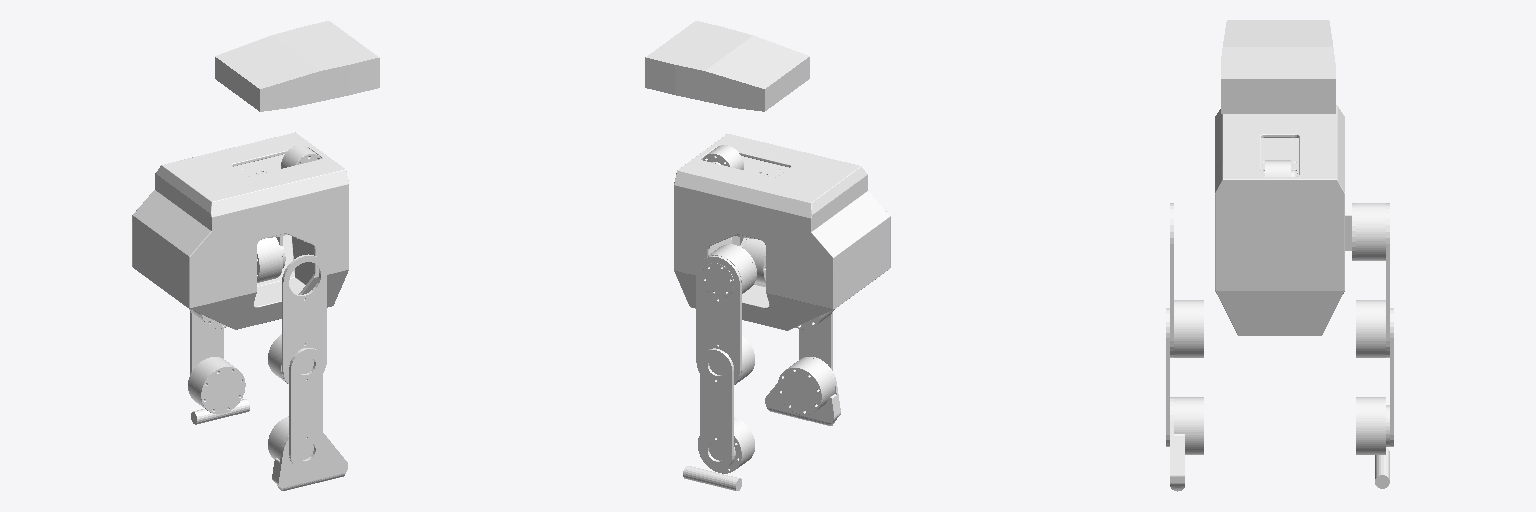
URDF robot description (DuckDuck):
<?xml version="1.0" encoding="utf-8"?>
<!-- This URDF was automatically created by SolidWorks to URDF Exporter! Originally created by [author] ([email redacted]) 
     Commit Version: 1.6.0-4-g7f85cfe  Build Version: 1.6.7995.38578
     For more information, please see http://wiki.ros.org/sw_urdf_exporter -->
<robot
  name="DuckDuck">
  <link
    name="base">
    <inertial>
      <origin
        xyz="-0.0100928530626795 -8.48766786223073E-05 0.0417109438407734"
        rpy="0 0 0" />
      <mass
        value="1.70037419863104" />
      <inertia
        ixx="0.011026305690898"
        ixy="1.15603196804474E-08"
        ixz="0.000185395732857203"
        iyy="0.0172159470283866"
        iyz="-8.11570230276946E-09"
        izz="0.0151809445338661" />
    </inertial>
    <visual>
      <origin
        xyz="0 0 0"
        rpy="0 0 0" />
      <geometry>
        <mesh
          filename="package://DuckDuck/meshes/base.STL" />
      </geometry>
      <material
        name="">
        <color
          rgba="1 1 1 1" />
      </material>
    </visual>
    <collision>
      <origin
        xyz="0 0 0"
        rpy="0 0 0" />
      <geometry>
        <mesh
          filename="package://DuckDuck/meshes/base.STL" />
      </geometry>
    </collision>
  </link>
  <link
    name="left_hip_yaw">
    <inertial>
      <origin
        xyz="-0.0148415027804522 -1.42278207789504E-05 0.00518098759586325"
        rpy="0 0 0" />
      <mass
        value="0.22770651071542" />
      <inertia
        ixx="0.00016064594987398"
        ixy="-1.0584438013289E-08"
        ixz="2.79494697437766E-06"
        iyy="0.000122883197379238"
        iyz="5.01180502056784E-08"
        izz="0.000114845036646105" />
    </inertial>
    <visual>
      <origin
        xyz="0 0 0"
        rpy="0 0 0" />
      <geometry>
        <mesh
          filename="package://DuckDuck/meshes/left_hip_yaw.STL" />
      </geometry>
      <material
        name="">
        <color
          rgba="1 1 1 1" />
      </material>
    </visual>
    <collision>
      <origin
        xyz="0 0 0"
        rpy="0 0 0" />
      <geometry>
        <mesh
          filename="package://DuckDuck/meshes/left_hip_yaw.STL" />
      </geometry>
    </collision>
  </link>
  <joint
    name="left_hip_yaw_joint"
    type="revolute">
    <origin
      xyz="0 0.04 0"
      rpy="0 0 0" />
    <parent
      link="base" />
    <child
      link="left_hip_yaw" />
    <axis
      xyz="0 0 1" />
    <limit
      lower="0"
      upper="0"
      effort="0"
      velocity="0" />
  </joint>
  <link
    name="left_hip_roll">
    <inertial>
      <origin
        xyz="0.00016868655630813 0.0732538542750924 -1.42428991139337E-05"
        rpy="0 0 0" />
      <mass
        value="0.22746544778837" />
      <inertia
        ixx="0.000139061664775468"
        ixy="9.72203682012463E-07"
        ixz="-3.27718468280282E-09"
        iyy="0.000154215112847962"
        iyz="5.57863354309902E-08"
        izz="0.000132221036670331" />
    </inertial>
    <visual>
      <origin
        xyz="0 0 0"
        rpy="0 0 0" />
      <geometry>
        <mesh
          filename="package://DuckDuck/meshes/left_hip_roll.STL" />
      </geometry>
      <material
        name="">
        <color
          rgba="1 1 1 1" />
      </material>
    </visual>
    <collision>
      <origin
        xyz="0 0 0"
        rpy="0 0 0" />
      <geometry>
        <mesh
          filename="package://DuckDuck/meshes/left_hip_roll.STL" />
      </geometry>
    </collision>
  </link>
  <joint
    name="left_hip_roll_joint"
    type="revolute">
    <origin
      xyz="0 0 0"
      rpy="0 0 0" />
    <parent
      link="left_hip_yaw" />
    <child
      link="left_hip_roll" />
    <axis
      xyz="1 0 0" />
    <limit
      lower="0"
      upper="0"
      effort="0"
      velocity="0" />
  </joint>
  <link
    name="left_hip_pitch">
    <inertial>
      <origin
        xyz="-3.35688425254106E-16 0.0845594117245176 -0.125225619873394"
        rpy="0 0 0" />
      <mass
        value="0.24023854356995" />
      <inertia
        ixx="0.000225138484662056"
        ixy="-6.01790208528758E-22"
        ixz="-1.33196195508682E-19"
        iyy="0.000288595828376715"
        iyz="3.54863128273055E-20"
        izz="0.000123129101652142" />
    </inertial>
    <visual>
      <origin
        xyz="0 0 0"
        rpy="0 0 0" />
      <geometry>
        <mesh
          filename="package://DuckDuck/meshes/left_hip_pitch.STL" />
      </geometry>
      <material
        name="">
        <color
          rgba="1 1 1 1" />
      </material>
    </visual>
    <collision>
      <origin
        xyz="0 0 0"
        rpy="0 0 0" />
      <geometry>
        <mesh
          filename="package://DuckDuck/meshes/left_hip_pitch.STL" />
      </geometry>
    </collision>
  </link>
  <joint
    name="left_hip_pitch_joint"
    type="revolute">
    <origin
      xyz="0 0 0"
      rpy="0 0 0" />
    <parent
      link="left_hip_roll" />
    <child
      link="left_hip_pitch" />
    <axis
      xyz="0 1 0" />
    <limit
      lower="0"
      upper="0"
      effort="0"
      velocity="0" />
  </joint>
  <link
    name="left_knee_pitch">
    <inertial>
      <origin
        xyz="-3.14931093635428E-16 -0.00857325265941741 -0.127010278601144"
        rpy="0 0 0" />
      <mass
        value="0.232718078417979" />
      <inertia
        ixx="0.000202660360914128"
        ixy="5.18171181382048E-21"
        ixz="-1.27035811917264E-19"
        iyy="0.000249803523853592"
        iyz="4.20827856752809E-20"
        izz="0.000106783585605482" />
    </inertial>
    <visual>
      <origin
        xyz="0 0 0"
        rpy="0 0 0" />
      <geometry>
        <mesh
          filename="package://DuckDuck/meshes/left_knee_pitch.STL" />
      </geometry>
      <material
        name="">
        <color
          rgba="1 1 1 1" />
      </material>
    </visual>
    <collision>
      <origin
        xyz="0 0 0"
        rpy="0 0 0" />
      <geometry>
        <mesh
          filename="package://DuckDuck/meshes/left_knee_pitch.STL" />
      </geometry>
    </collision>
  </link>
  <joint
    name="left_knee_pitch_joint"
    type="revolute">
    <origin
      xyz="0 0.0936181760425075 -0.14"
      rpy="0 0 0" />
    <parent
      link="left_hip_pitch" />
    <child
      link="left_knee_pitch" />
    <axis
      xyz="0 1 0" />
    <limit
      lower="0"
      upper="0"
      effort="0"
      velocity="0" />
  </joint>
  <link
    name="left_ankle_pitch">
    <inertial>
      <origin
        xyz="0.0171971119634686 0.00125991692727168 -0.027457582228249"
        rpy="0 0 0" />
      <mass
        value="0.0651489641090865" />
      <inertia
        ixx="2.71170426483944E-05"
        ixy="1.41229735589195E-06"
        ixz="1.45343243518079E-06"
        iyy="0.000111640995669254"
        iyz="-2.23259273055197E-06"
        izz="8.94054733742727E-05" />
    </inertial>
    <visual>
      <origin
        xyz="0 0 0"
        rpy="0 0 0" />
      <geometry>
        <mesh
          filename="package://DuckDuck/meshes/left_ankle_pitch.STL" />
      </geometry>
      <material
        name="">
        <color
          rgba="1 1 1 1" />
      </material>
    </visual>
    <collision>
      <origin
        xyz="0 0 0"
        rpy="0 0 0" />
      <geometry>
        <mesh
          filename="package://DuckDuck/meshes/left_ankle_pitch.STL" />
      </geometry>
    </collision>
  </link>
  <joint
    name="left_ankle_pitch_joint"
    type="revolute">
    <origin
      xyz="0 0 -0.14"
      rpy="0 0 0" />
    <parent
      link="left_knee_pitch" />
    <child
      link="left_ankle_pitch" />
    <axis
      xyz="0 1 0" />
    <limit
      lower="0"
      upper="0"
      effort="0"
      velocity="0" />
  </joint>
  <link
    name="left_ankle_roll">
    <inertial>
      <origin
        xyz="0.0149999999999993 -2.77555756156289E-17 -4.94049245958195E-15"
        rpy="0 0 0" />
      <mass
        value="0.0282743338823081" />
      <inertia
        ixx="1.41371669411541E-06"
        ixy="5.1925397296605E-21"
        ixz="7.15187474625493E-22"
        iyy="1.97920337176157E-05"
        iyz="-6.61744490042407E-23"
        izz="1.97920337176157E-05" />
    </inertial>
    <visual>
      <origin
        xyz="0 0 0"
        rpy="0 0 0" />
      <geometry>
        <mesh
          filename="package://DuckDuck/meshes/left_ankle_roll.STL" />
      </geometry>
      <material
        name="">
        <color
          rgba="1 1 1 1" />
      </material>
    </visual>
    <collision>
      <origin
        xyz="0 0 0"
        rpy="0 0 0" />
      <geometry>
        <mesh
          filename="package://DuckDuck/meshes/left_ankle_roll.STL" />
      </geometry>
    </collision>
  </link>
  <joint
    name="left_ankle_roll_joint"
    type="revolute">
    <origin
      xyz="0 0 -0.0523924267994756"
      rpy="0 0 0" />
    <parent
      link="left_ankle_pitch" />
    <child
      link="left_ankle_roll" />
    <axis
      xyz="1 0 0" />
    <limit
      lower="0"
      upper="0"
      effort="0"
      velocity="0" />
  </joint>
  <link
    name="right_hip_yaw">
    <inertial>
      <origin
        xyz="-0.0148415027804522 -1.4227820776147E-05 0.00518098759586436"
        rpy="0 0 0" />
      <mass
        value="0.22770651071542" />
      <inertia
        ixx="0.00016064594987398"
        ixy="-1.05844380133239E-08"
        ixz="2.7949469743776E-06"
        iyy="0.000122883197379238"
        iyz="5.01180502056588E-08"
        izz="0.000114845036646105" />
    </inertial>
    <visual>
      <origin
        xyz="0 0 0"
        rpy="0 0 0" />
      <geometry>
        <mesh
          filename="package://DuckDuck/meshes/right_hip_yaw.STL" />
      </geometry>
      <material
        name="">
        <color
          rgba="1 1 1 1" />
      </material>
    </visual>
    <collision>
      <origin
        xyz="0 0 0"
        rpy="0 0 0" />
      <geometry>
        <mesh
          filename="package://DuckDuck/meshes/right_hip_yaw.STL" />
      </geometry>
    </collision>
  </link>
  <joint
    name="right_hip_yaw_joint"
    type="revolute">
    <origin
      xyz="0 -0.04 0"
      rpy="0 0 0" />
    <parent
      link="base" />
    <child
      link="right_hip_yaw" />
    <axis
      xyz="0 0 1" />
    <limit
      lower="0"
      upper="0"
      effort="0"
      velocity="0" />
  </joint>
  <link
    name="right_hip_roll">
    <inertial>
      <origin
        xyz="0.000168686556307084 -0.073253854275096 1.42428991107002E-05"
        rpy="0 0 0" />
      <mass
        value="0.22746544778837" />
      <inertia
        ixx="0.000139061664775468"
        ixy="-9.72203682012507E-07"
        ixz="3.27718468277951E-09"
        iyy="0.000154215112847962"
        iyz="5.57863354310647E-08"
        izz="0.000132221036670331" />
    </inertial>
    <visual>
      <origin
        xyz="0 0 0"
        rpy="0 0 0" />
      <geometry>
        <mesh
          filename="package://DuckDuck/meshes/right_hip_roll.STL" />
      </geometry>
      <material
        name="">
        <color
          rgba="1 1 1 1" />
      </material>
    </visual>
    <collision>
      <origin
        xyz="0 0 0"
        rpy="0 0 0" />
      <geometry>
        <mesh
          filename="package://DuckDuck/meshes/right_hip_roll.STL" />
      </geometry>
    </collision>
  </link>
  <joint
    name="right_hip_roll_joint"
    type="revolute">
    <origin
      xyz="0 0 0"
      rpy="0 0 0" />
    <parent
      link="right_hip_yaw" />
    <child
      link="right_hip_roll" />
    <axis
      xyz="1 0 0" />
    <limit
      lower="0"
      upper="0"
      effort="0"
      velocity="0" />
  </joint>
  <link
    name="right_hip_pitch">
    <inertial>
      <origin
        xyz="9.8250059966117E-17 -0.0845594117245176 -0.125225619873394"
        rpy="0 0 0" />
      <mass
        value="0.24023854356995" />
      <inertia
        ixx="0.000225138484662056"
        ixy="-5.10457369633909E-20"
        ixz="-1.64038087116657E-19"
        iyy="0.000288595828376715"
        iyz="-2.38742900383508E-20"
        izz="0.000123129101652142" />
    </inertial>
    <visual>
      <origin
        xyz="0 0 0"
        rpy="0 0 0" />
      <geometry>
        <mesh
          filename="package://DuckDuck/meshes/right_hip_pitch.STL" />
      </geometry>
      <material
        name="">
        <color
          rgba="1 1 1 1" />
      </material>
    </visual>
    <collision>
      <origin
        xyz="0 0 0"
        rpy="0 0 0" />
      <geometry>
        <mesh
          filename="package://DuckDuck/meshes/right_hip_pitch.STL" />
      </geometry>
    </collision>
  </link>
  <joint
    name="right_hip_pitch_joint"
    type="revolute">
    <origin
      xyz="0 0 0"
      rpy="0 0 0" />
    <parent
      link="right_hip_roll" />
    <child
      link="right_hip_pitch" />
    <axis
      xyz="0 -1 0" />
    <limit
      lower="0"
      upper="0"
      effort="0"
      velocity="0" />
  </joint>
  <link
    name="right_knee_pitch">
    <inertial>
      <origin
        xyz="-1.85705319768296E-16 0.00857325265941841 -0.127010278601144"
        rpy="0 0 0" />
      <mass
        value="0.232718078417978" />
      <inertia
        ixx="0.000202660360914127"
        ixy="-3.42581386582497E-20"
        ixz="-1.55170653183977E-19"
        iyy="0.000249803523853592"
        iyz="2.64883998539048E-20"
        izz="0.000106783585605481" />
    </inertial>
    <visual>
      <origin
        xyz="0 0 0"
        rpy="0 0 0" />
      <geometry>
        <mesh
          filename="package://DuckDuck/meshes/right_knee_pitch.STL" />
      </geometry>
      <material
        name="">
        <color
          rgba="1 1 1 1" />
      </material>
    </visual>
    <collision>
      <origin
        xyz="0 0 0"
        rpy="0 0 0" />
      <geometry>
        <mesh
          filename="package://DuckDuck/meshes/right_knee_pitch.STL" />
      </geometry>
    </collision>
  </link>
  <joint
    name="right_knee_pitch_joint"
    type="revolute">
    <origin
      xyz="0 -0.0936181760425084 -0.14"
      rpy="0 0 0" />
    <parent
      link="right_hip_pitch" />
    <child
      link="right_knee_pitch" />
    <axis
      xyz="0 -1 0" />
    <limit
      lower="0"
      upper="0"
      effort="0"
      velocity="0" />
  </joint>
  <link
    name="right_ankle_pitch">
    <inertial>
      <origin
        xyz="0.0171970814557113 -0.00125992066950759 -0.0274576170413897"
        rpy="0 0 0" />
      <mass
        value="0.0651490178313245" />
      <inertia
        ixx="2.71171025823446E-05"
        ixy="-1.41230393207431E-06"
        ixz="1.45333365120518E-06"
        iyy="0.000111641093323312"
        iyz="2.23257104497736E-06"
        izz="8.94055118440263E-05" />
    </inertial>
    <visual>
      <origin
        xyz="0 0 0"
        rpy="0 0 0" />
      <geometry>
        <mesh
          filename="package://DuckDuck/meshes/right_ankle_pitch.STL" />
      </geometry>
      <material
        name="">
        <color
          rgba="1 1 1 1" />
      </material>
    </visual>
    <collision>
      <origin
        xyz="0 0 0"
        rpy="0 0 0" />
      <geometry>
        <mesh
          filename="package://DuckDuck/meshes/right_ankle_pitch.STL" />
      </geometry>
    </collision>
  </link>
  <joint
    name="right_ankle_pitch_joint"
    type="revolute">
    <origin
      xyz="0 0 -0.14"
      rpy="0 0 0" />
    <parent
      link="right_knee_pitch" />
    <child
      link="right_ankle_pitch" />
    <axis
      xyz="0 -1 0" />
    <limit
      lower="0"
      upper="0"
      effort="0"
      velocity="0" />
  </joint>
  <link
    name="right_ankle_roll">
    <inertial>
      <origin
        xyz="0.0149999999999999 -1.33226762955019E-15 5.55111512312578E-16"
        rpy="0 0 0" />
      <mass
        value="0.0282743338823081" />
      <inertia
        ixx="1.41371669411541E-06"
        ixy="6.2247337944344E-22"
        ixz="8.05197805008483E-23"
        iyy="1.97920337176157E-05"
        iyz="-7.85821581925374E-24"
        izz="1.97920337176157E-05" />
    </inertial>
    <visual>
      <origin
        xyz="0 0 0"
        rpy="0 0 0" />
      <geometry>
        <mesh
          filename="package://DuckDuck/meshes/right_ankle_roll.STL" />
      </geometry>
      <material
        name="">
        <color
          rgba="1 1 1 1" />
      </material>
    </visual>
    <collision>
      <origin
        xyz="0 0 0"
        rpy="0 0 0" />
      <geometry>
        <mesh
          filename="package://DuckDuck/meshes/right_ankle_roll.STL" />
      </geometry>
    </collision>
  </link>
  <joint
    name="right_ankle_roll_joint"
    type="revolute">
    <origin
      xyz="0 0 -0.0523924267994828"
      rpy="0 0 0" />
    <parent
      link="right_ankle_pitch" />
    <child
      link="right_ankle_roll" />
    <axis
      xyz="1 0 0" />
    <limit
      lower="0"
      upper="0"
      effort="0"
      velocity="0" />
  </joint>
  <link
    name="neck_pitch">
    <inertial>
      <origin
        xyz="2.22044604925031E-16 -0.00249999999999993 0.0500927287975886"
        rpy="0 0 0" />
      <mass
        value="0.0944141515929346" />
      <inertia
        ixx="5.98227661229977E-05"
        ixy="8.62532755251327E-21"
        ixz="-3.22455725258216E-20"
        iyy="5.75228750179582E-05"
        iyz="-1.1362726639035E-20"
        izz="3.40590799851078E-05" />
    </inertial>
    <visual>
      <origin
        xyz="0 0 0"
        rpy="0 0 0" />
      <geometry>
        <mesh
          filename="package://DuckDuck/meshes/neck_pitch.STL" />
      </geometry>
      <material
        name="">
        <color
          rgba="1 1 1 1" />
      </material>
    </visual>
    <collision>
      <origin
        xyz="0 0 0"
        rpy="0 0 0" />
      <geometry>
        <mesh
          filename="package://DuckDuck/meshes/neck_pitch.STL" />
      </geometry>
    </collision>
  </link>
  <joint
    name="neck_pitch_joint"
    type="revolute">
    <origin
      xyz="0.0774999999999999 0 0.108874586088177"
      rpy="0 0 0" />
    <parent
      link="base" />
    <child
      link="neck_pitch" />
    <axis
      xyz="0 1 0" />
    <limit
      lower="0"
      upper="0"
      effort="0"
      velocity="0" />
  </joint>
  <link
    name="neck_roll">
    <inertial>
      <origin
        xyz="4.16333634234434E-17 9.97465998686664E-18 0.025398197821265"
        rpy="0 0 0" />
      <mass
        value="0.0554895568861581" />
      <inertia
        ixx="3.52155621202351E-05"
        ixy="1.77533649293486E-20"
        ixz="-3.68225674531131E-20"
        iyy="2.9525444201718E-05"
        iyz="-6.88155523420156E-21"
        izz="9.34760082952307E-06" />
    </inertial>
    <visual>
      <origin
        xyz="0 0 0"
        rpy="0 0 0" />
      <geometry>
        <mesh
          filename="package://DuckDuck/meshes/neck_roll.STL" />
      </geometry>
      <material
        name="">
        <color
          rgba="1 1 1 1" />
      </material>
    </visual>
    <collision>
      <origin
        xyz="0 0 0"
        rpy="0 0 0" />
      <geometry>
        <mesh
          filename="package://DuckDuck/meshes/neck_roll.STL" />
      </geometry>
    </collision>
  </link>
  <joint
    name="neck_roll_joint"
    type="revolute">
    <origin
      xyz="0 -0.00249999999999992 0.0774999999999998"
      rpy="0 0 0" />
    <parent
      link="neck_pitch" />
    <child
      link="neck_roll" />
    <axis
      xyz="-1 0 0" />
    <limit
      lower="0"
      upper="0"
      effort="0"
      velocity="0" />
  </joint>
  <link
    name="neck_yaw">
    <inertial>
      <origin
        xyz="-0.00601691442032241 1.0842021724855E-17 0.0242972736541135"
        rpy="0 0 0" />
      <mass
        value="1.36489294645362" />
      <inertia
        ixx="0.00264611796494262"
        ixy="-7.56728326507061E-18"
        ixz="-6.37095515701378E-05"
        iyy="0.00458756210789547"
        iyz="5.46625917605381E-19"
        izz="0.00671153515827188" />
    </inertial>
    <visual>
      <origin
        xyz="0 0 0"
        rpy="0 0 0" />
      <geometry>
        <mesh
          filename="package://DuckDuck/meshes/neck_yaw.STL" />
      </geometry>
      <material
        name="">
        <color
          rgba="1 1 1 1" />
      </material>
    </visual>
    <collision>
      <origin
        xyz="0 0 0"
        rpy="0 0 0" />
      <geometry>
        <mesh
          filename="package://DuckDuck/meshes/neck_yaw.STL" />
      </geometry>
    </collision>
  </link>
  <joint
    name="neck_yaw_joint"
    type="revolute">
    <origin
      xyz="0 0 0.061"
      rpy="0 0 0" />
    <parent
      link="neck_roll" />
    <child
      link="neck_yaw" />
    <axis
      xyz="0 0 1" />
    <limit
      lower="0"
      upper="0"
      effort="0"
      velocity="0" />
  </joint>
</robot>

--- Render facts (derived) ---
3 views of the same robot in one strip: view 1: azimuth 30°, elevation 25°; view 2: azimuth 150°, elevation 25°; view 3: azimuth 270°, elevation 25° (orthographic).
Robot: DuckDuck — 16 links, 15 joints (15 revolute); root link base; default pose: all joints at 0.
Links seen in each view (by area): view 1: base, neck_yaw, right_hip_pitch, right_knee_pitch, left_knee_pitch, right_ankle_pitch, right_hip_yaw, left_ankle_roll; view 2: base, neck_yaw, left_knee_pitch, left_hip_pitch, right_knee_pitch, left_hip_roll, right_ankle_pitch, left_ankle_roll, left_hip_yaw; view 3: base, neck_yaw, left_knee_pitch, left_hip_pitch, right_hip_pitch, left_hip_roll, right_knee_pitch, right_ankle_pitch.
Link boxes in pixels (x1=…): base: x1=132, y1=132, x2=348, y2=329; neck_yaw: x1=215, y1=21, x2=379, y2=111; right_hip_pitch: x1=268, y1=254, x2=326, y2=383; right_knee_pitch: x1=268, y1=348, x2=322, y2=468; left_knee_pitch: x1=188, y1=311, x2=245, y2=413; right_ankle_pitch: x1=272, y1=433, x2=347, y2=490; right_hip_yaw: x1=257, y1=234, x2=287, y2=282; left_ankle_roll: x1=191, y1=399, x2=249, y2=424; base: x1=674, y1=134, x2=890, y2=330; neck_yaw: x1=645, y1=21, x2=809, y2=111; left_knee_pitch: x1=698, y1=349, x2=754, y2=473; left_hip_pitch: x1=696, y1=255, x2=754, y2=384; right_knee_pitch: x1=778, y1=312, x2=834, y2=414; left_hip_roll: x1=702, y1=238, x2=756, y2=296; right_ankle_pitch: x1=765, y1=357, x2=840, y2=425; left_ankle_roll: x1=683, y1=466, x2=741, y2=490; left_hip_yaw: x1=735, y1=235, x2=765, y2=283; base: x1=1215, y1=105, x2=1344, y2=335; neck_yaw: x1=1221, y1=20, x2=1335, y2=113; left_knee_pitch: x1=1356, y1=308, x2=1393, y2=454; left_hip_pitch: x1=1356, y1=203, x2=1389, y2=357; right_hip_pitch: x1=1170, y1=203, x2=1203, y2=357; left_hip_roll: x1=1345, y1=203, x2=1385, y2=260; right_knee_pitch: x1=1166, y1=308, x2=1203, y2=454; right_ankle_pitch: x1=1170, y1=397, x2=1184, y2=491.
Bounding box of the posed robot: 0.3295 × 0.2982 × 0.6398 m (x, y, z).
12 mesh visuals loaded from 16 distinct referenced files (12 binary STL); not drawn: 4 (reference not matched to a file when rendering).
